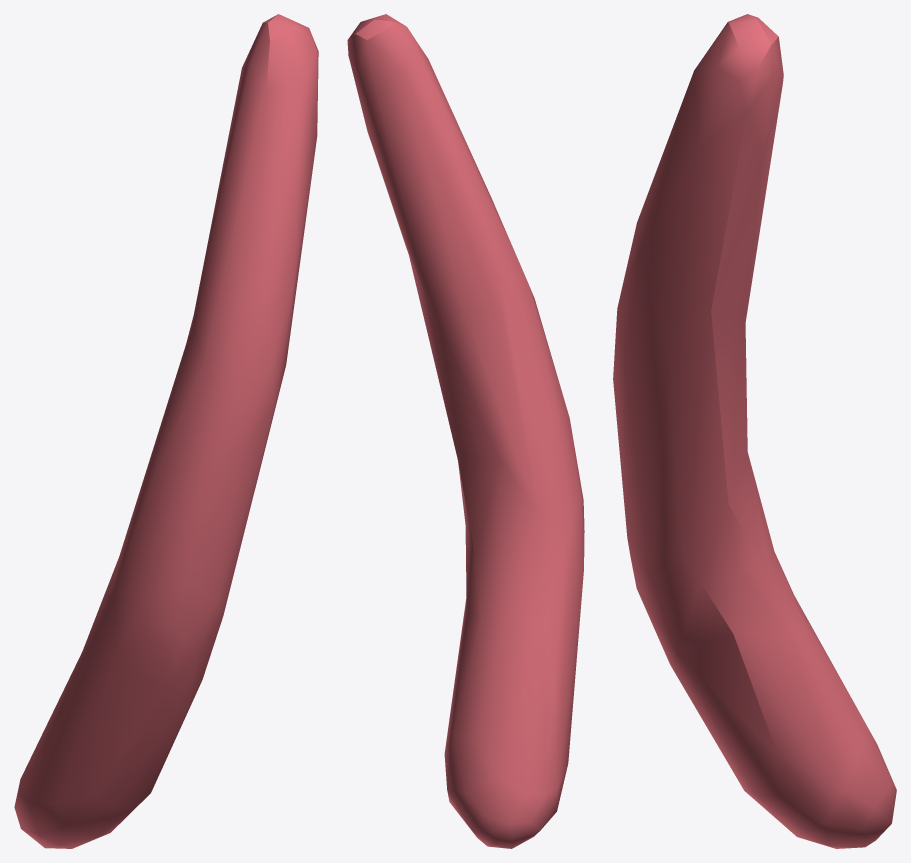
The model's file is fma8661_fj6100.glb.
The picture shows the model from 3 angles, left to right: view 1: azimuth 30°, elevation 25°; view 2: azimuth 150°, elevation 25°; view 3: azimuth 270°, elevation 25°; orthographic projection. The views are drawn at different scales.
Visible parts, largest first — view 1: FMA8661_FJ6100; view 2: FMA8661_FJ6100; view 3: FMA8661_FJ6100.
Part boxes in pixels (x1=…): FMA8661_FJ6100: x1=14, y1=14, x2=318, y2=848; FMA8661_FJ6100: x1=347, y1=14, x2=584, y2=848; FMA8661_FJ6100: x1=613, y1=14, x2=896, y2=848.
Size of the model in its own units: 0.0136 by 0.0415 by 0.0115.
